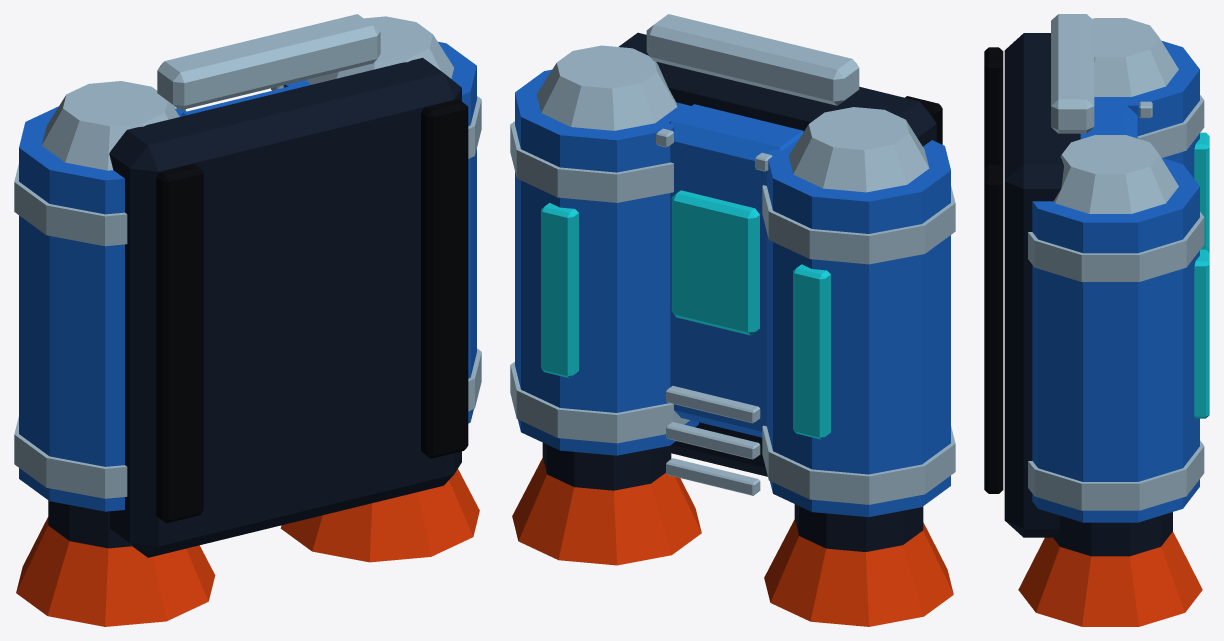
File: ObbyJetpack.fbx
3 renders of one model, left to right at view 1: azimuth 30°, elevation 25°; view 2: azimuth 150°, elevation 25°; view 3: azimuth 270°, elevation 25°, orthographic. The views are drawn at different scales.
Parts seen in each view (by area): view 1: ObbyJetpack; view 2: ObbyJetpack; view 3: ObbyJetpack.
Boxes of the visible parts, bbox=[...] form: ObbyJetpack: bbox=[14, 14, 481, 626]; ObbyJetpack: bbox=[510, 14, 955, 626]; ObbyJetpack: bbox=[984, 14, 1209, 626].
Bounding box in the file's own units: 83.91 × 98.5 × 41.5.
